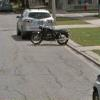Motorcycle: (23, 20, 78, 50)
